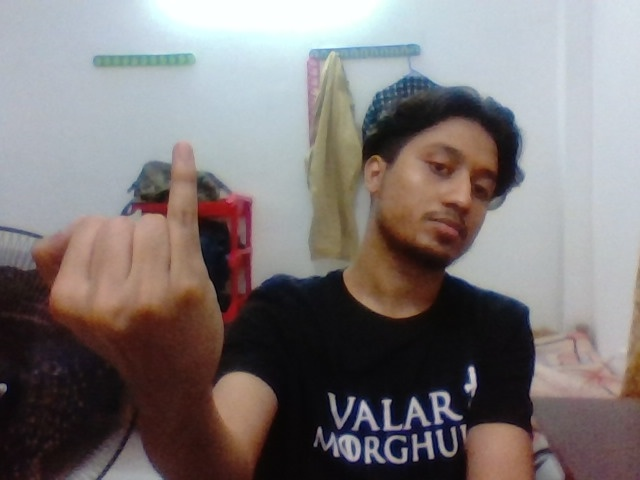I: (65, 133, 235, 367)
